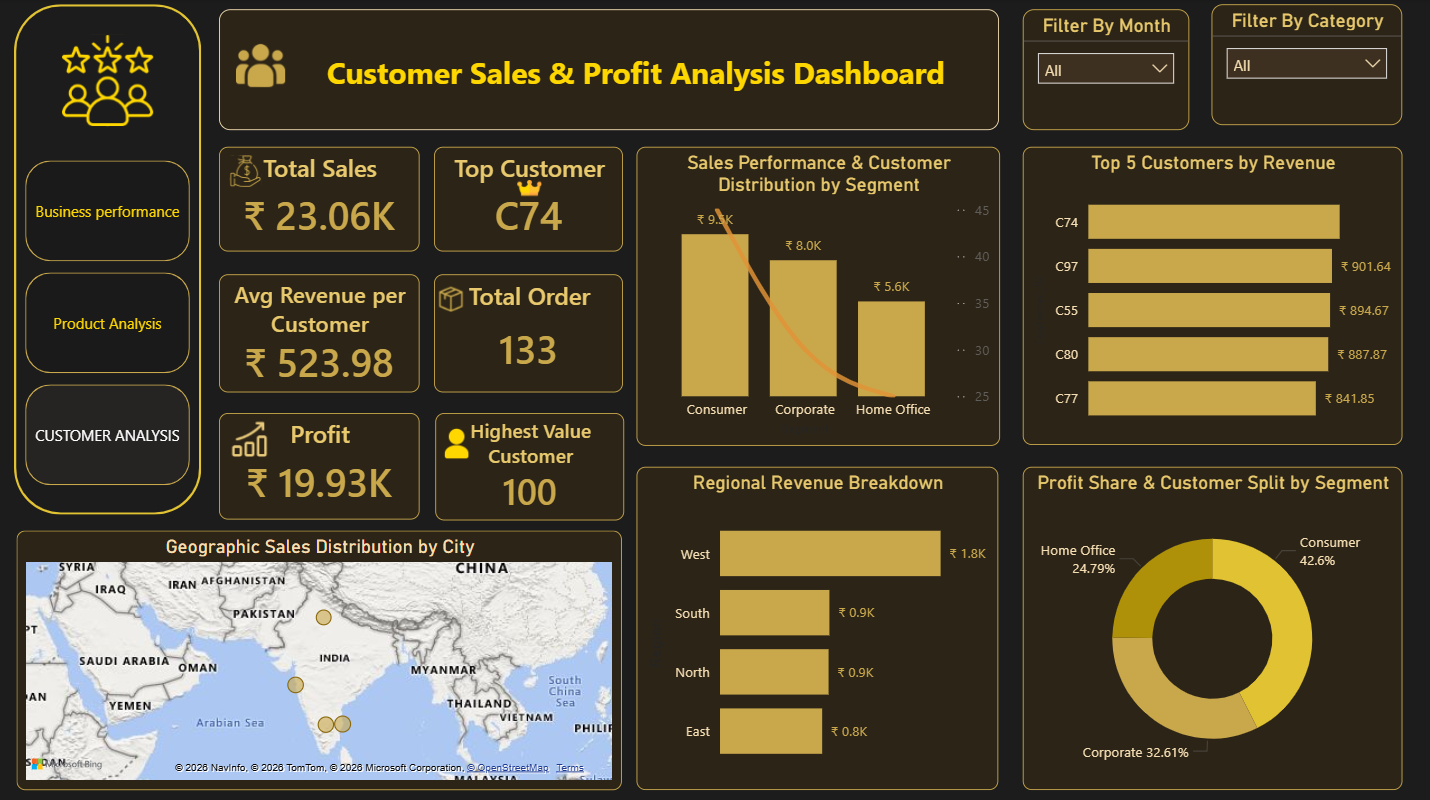

The dashboard page shown, as its layout file describes it:
{"tool":"powerbi","page":{"name":"CUSTOMER ANALYSIS","canvas":[1280,720],"ordinal":2},"visuals":[{"type":"card","title":"Highest Value Customer","fields":{"Values":["Count(Customers.Customer_Name)"]},"box":[389.5,370.3,169,95.9],"z":0},{"type":"card","title":"Total Sales","fields":{"Values":["Orders.Total Sales"]},"box":[196.2,132.7,178.9,93.8],"z":1000},{"type":"card","title":"Profit","fields":{"Values":["Orders.Profit"]},"box":[196.2,370.8,178.9,95.2],"z":2000},{"type":"map","title":"Geographic Sales Distribution by City","fields":{"Category":["Orders.City"],"Size":["Orders.Total Sales"]},"box":[15.9,476.1,541,232.3],"z":3000},{"type":"card","title":"Avg Revenue per Customer","fields":{"Values":["Orders.Avg Sales per Customer"]},"box":[196.2,246.7,178.9,105.3],"z":4000},{"type":"lineClusteredColumnComboChart","title":"Sales Performance & Customer Distribution by Segment","fields":{"Category":["Customers.Segment"],"Y":["Orders.Total Sales"],"Y2":["CountNonNull(Customers.Customer_ID)"]},"box":[569.9,132.7,324.6,266.9],"z":5000},{"type":"clusteredBarChart","title":"Top 5 Customers by Revenue","fields":{"Category":["Orders.Customer_ID"],"Y":["Orders.Total Sales"]},"box":[914.5,133,339.2,266.1],"z":6000},{"type":"clusteredBarChart","title":"Regional Revenue Breakdown","fields":{"Category":["Orders.Region"],"Y":["Orders.Total Sales"]},"box":[569.9,418.4,323.2,288.6],"z":7000},{"type":"donutChart","title":"Profit Share & Customer Split by Segment","fields":{"Category":["Customers.Segment"],"Y":["Orders.Profit"]},"box":[914.7,418.4,339,288.6],"z":8000},{"type":"card","title":"Total Order","fields":{"Values":["Orders.Total Quantity"]},"box":[388.3,246.9,169,105.5],"z":9000},{"type":"card","title":"Top Customer","fields":{"Values":["Orders.Top Customer"]},"box":[388.3,133,169,93.5],"z":10000},{"type":"actionButton","title":"asfas","box":[17.3,28.9,158.7,89.5],"z":11000},{"type":"shape","box":[13,5.8,167.4,455.9],"z":12000},{"type":"textbox","box":[196.2,10.1,696.9,108.2],"z":13000},{"type":"actionButton","title":"asfas","box":[207.8,11.5,51.9,98.1],"z":14000},{"type":"slicer","title":"Filter By Month","fields":{"Values":["Orders.Order_Date.Variation.Date Hierarchy.Month"]},"box":[914.7,10.1,148.6,108.2],"z":15000},{"type":"pageNavigator","box":[23.1,145.7,147.2,291.4],"z":16000},{"type":"actionButton","title":"asfas","box":[202,109.6,36.1,90.9],"z":17000},{"type":"actionButton","title":"asfas","box":[388.1,226.5,30.3,85.1],"z":18000},{"type":"actionButton","title":"asfas","box":[202,352,43.3,85.1],"z":19000},{"type":"slicer","title":"Filter By Category","fields":{"Values":["Orders.Category"]},"box":[1083.5,5.8,170.2,108.2],"z":20000},{"type":"actionButton","title":"asfas","box":[390.7,352.4,36,91.1],"z":20001},{"type":"actionButton","title":"asfas","box":[459,133,30,81.5],"z":20002}]}

Visuals, with their boxes in screenshot pixels (x1, y1, x2, y2), scaled from the page's 1280x720 canvas onto the 1430x800 screenshot:
"Highest Value Customer" card: {"left": 435, "top": 411, "right": 624, "bottom": 518}
"Total Sales" card: {"left": 219, "top": 147, "right": 419, "bottom": 252}
"Profit" card: {"left": 219, "top": 412, "right": 419, "bottom": 518}
"Geographic Sales Distribution by City" map: {"left": 18, "top": 529, "right": 622, "bottom": 787}
"Avg Revenue per Customer" card: {"left": 219, "top": 274, "right": 419, "bottom": 391}
"Sales Performance & Customer Distribution by Segment" lineClusteredColumnComboChart: {"left": 637, "top": 147, "right": 999, "bottom": 444}
"Top 5 Customers by Revenue" clusteredBarChart: {"left": 1022, "top": 148, "right": 1401, "bottom": 443}
"Regional Revenue Breakdown" clusteredBarChart: {"left": 637, "top": 465, "right": 998, "bottom": 786}
"Profit Share & Customer Split by Segment" donutChart: {"left": 1022, "top": 465, "right": 1401, "bottom": 786}
"Total Order" card: {"left": 434, "top": 274, "right": 623, "bottom": 392}
"Top Customer" card: {"left": 434, "top": 148, "right": 623, "bottom": 252}
"asfas" actionButton: {"left": 19, "top": 32, "right": 197, "bottom": 132}
shape: {"left": 15, "top": 6, "right": 202, "bottom": 513}
textbox: {"left": 219, "top": 11, "right": 998, "bottom": 131}
"asfas" actionButton: {"left": 232, "top": 13, "right": 290, "bottom": 122}
"Filter By Month" slicer: {"left": 1022, "top": 11, "right": 1188, "bottom": 131}
pageNavigator: {"left": 26, "top": 162, "right": 190, "bottom": 486}
"asfas" actionButton: {"left": 226, "top": 122, "right": 266, "bottom": 223}
"asfas" actionButton: {"left": 434, "top": 252, "right": 467, "bottom": 346}
"asfas" actionButton: {"left": 226, "top": 391, "right": 274, "bottom": 486}
"Filter By Category" slicer: {"left": 1210, "top": 6, "right": 1401, "bottom": 127}
"asfas" actionButton: {"left": 436, "top": 392, "right": 477, "bottom": 493}
"asfas" actionButton: {"left": 513, "top": 148, "right": 546, "bottom": 238}
